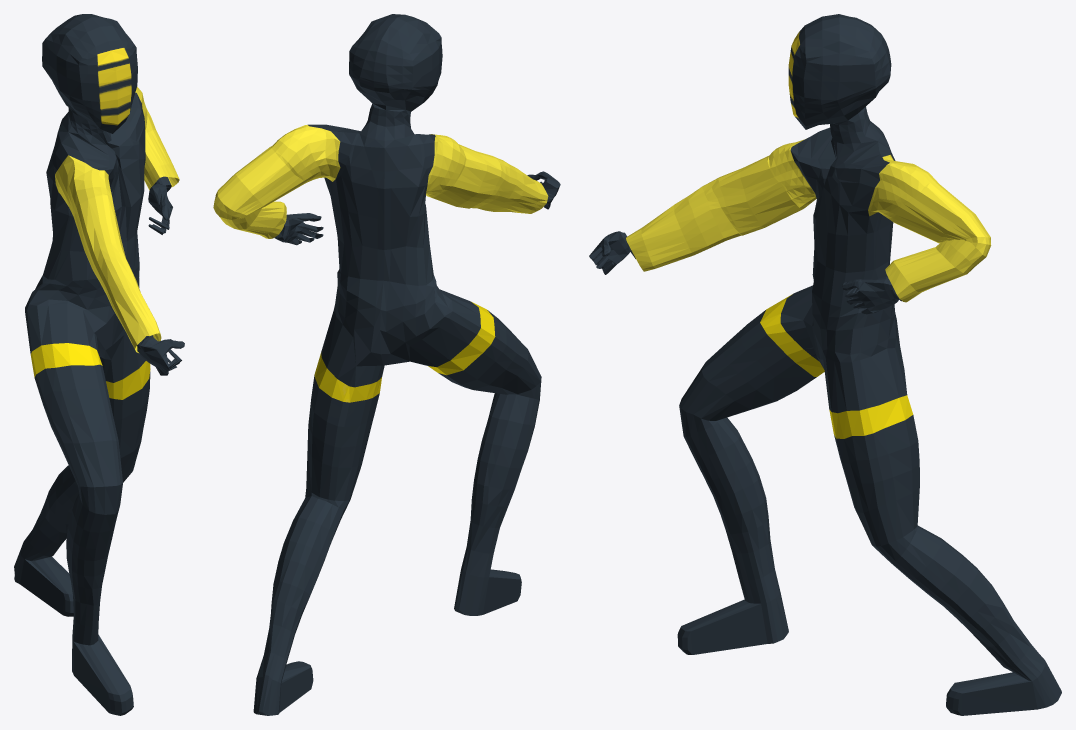
Rendered from Sentry_WF_000024.obj.
The picture shows the model from 3 angles, left to right: view 1: azimuth 30°, elevation 25°; view 2: azimuth 150°, elevation 25°; view 3: azimuth 270°, elevation 25°; orthographic projection. The views are drawn at different scales.
Visible parts, largest first — view 1: Cube; view 2: Cube; view 3: Cube.
Part boxes in pixels (x1,y1,x2,y2): Cube: (14,14,184,715); Cube: (213,14,560,715); Cube: (589,14,1061,715).
Size of the model in its own units: 1.19 by 3.66 by 2.33.
